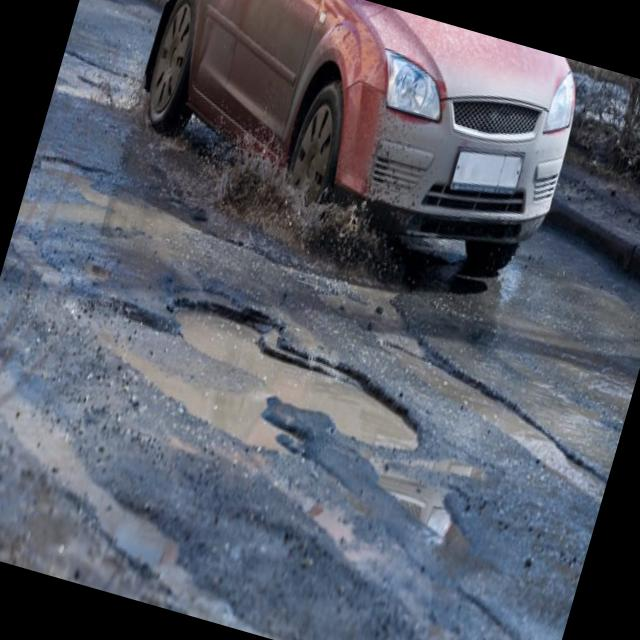Potholes: (49, 205, 480, 569), (363, 261, 640, 563), (13, 110, 214, 284)
